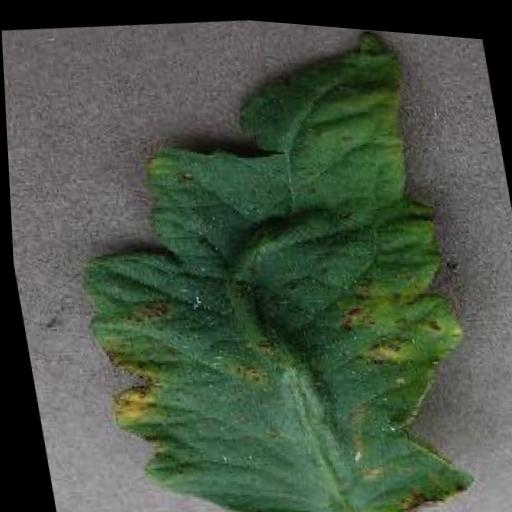Bacterial Spot: (34, 2, 498, 512)
